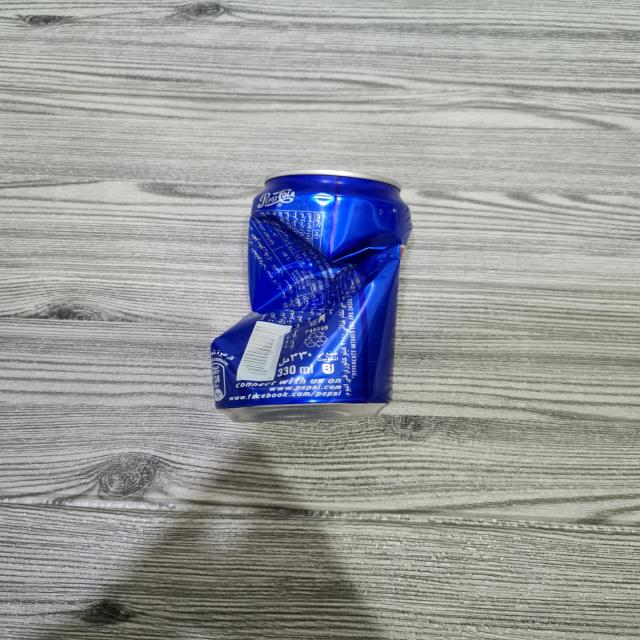non-organic waste: (199, 162, 416, 430)
